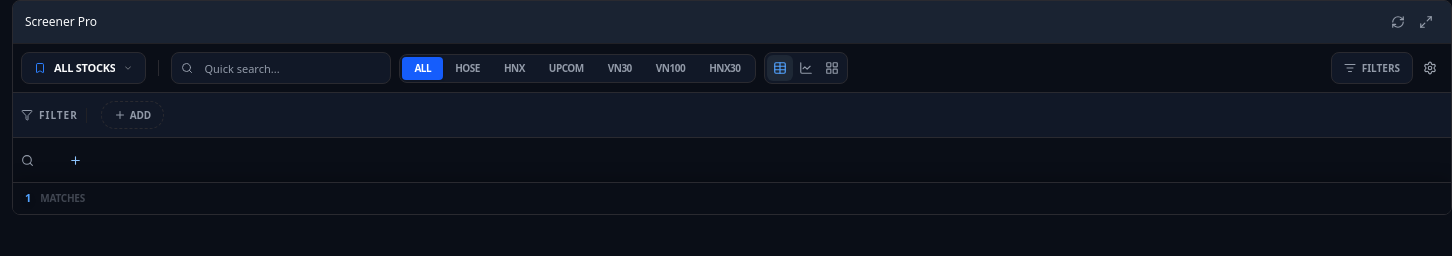
Scenario: screener availability › adds to a single watchlist without losing existing symbols and ignores normalized duplicates
Click the button named "Add FPT to Watchlist" at (83, 160), box [61, 138, 105, 182]
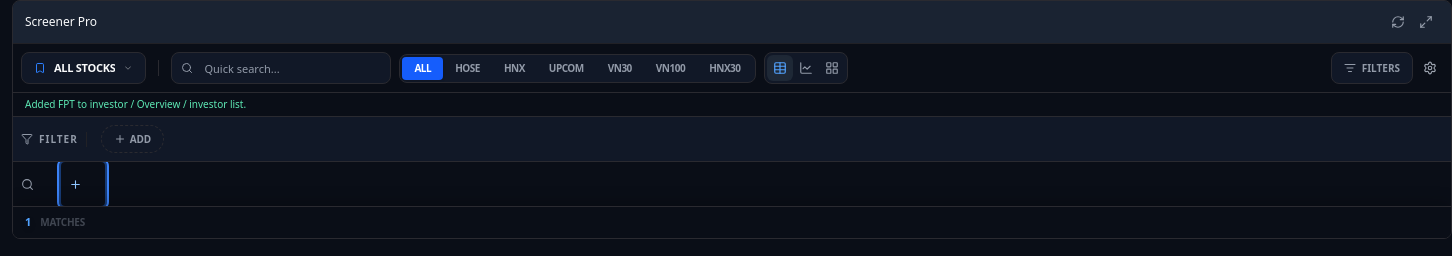
Click the button named "Add FPT to Watchlist" at (83, 184), box [61, 162, 105, 206]
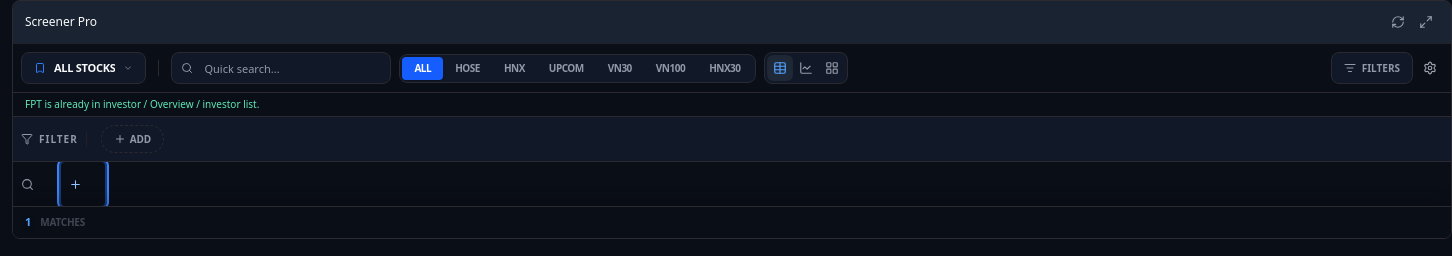
Expected: the message reads "FPT is already in investor / Overview / investor list.", [25, 97, 259, 111]
